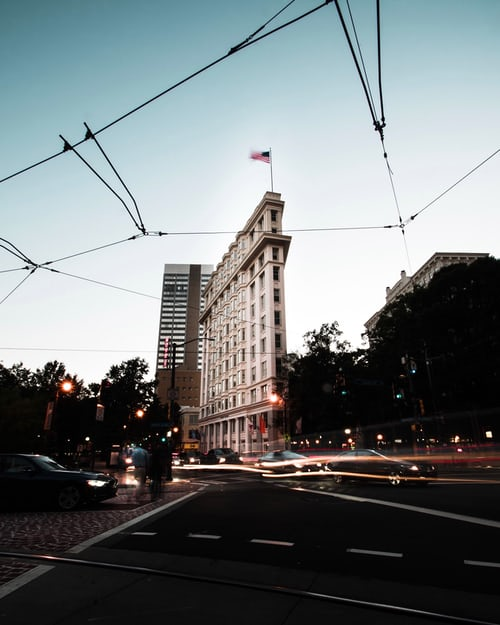Flag: (247, 147, 272, 167)
